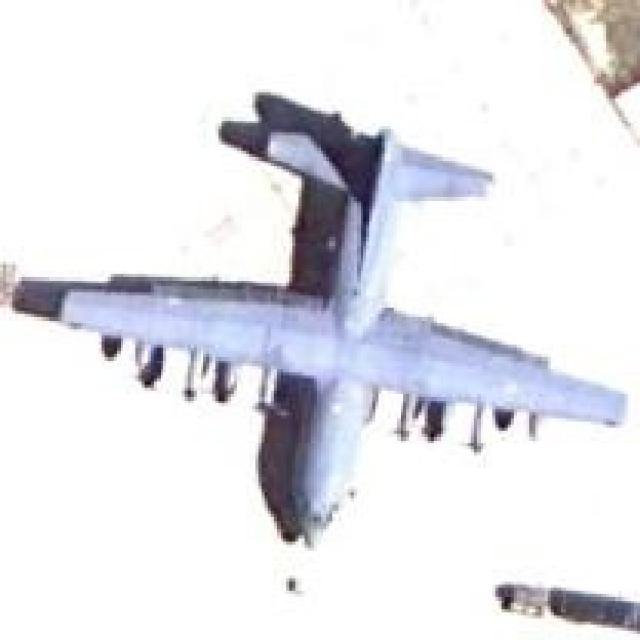C-130_TopDown: (8, 92, 631, 552)
